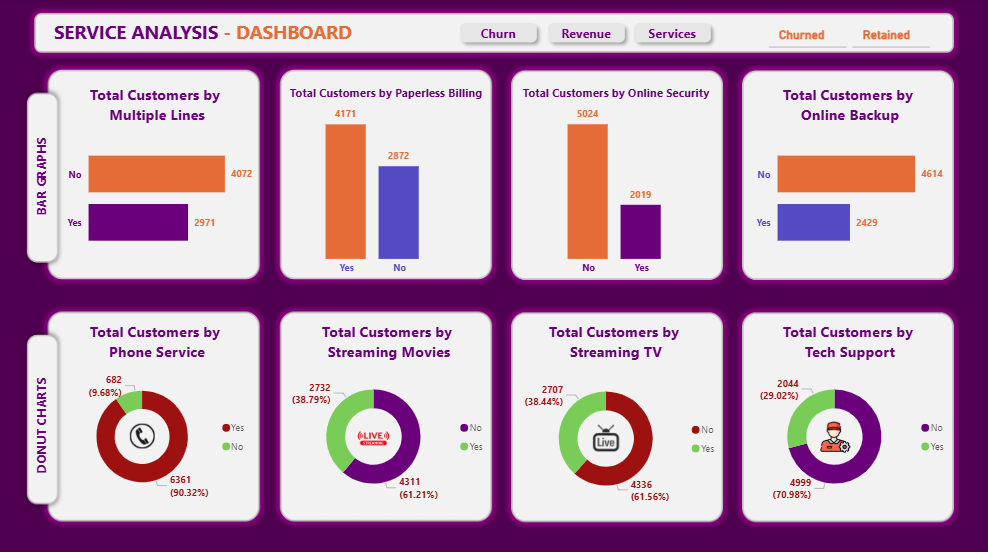

Layout of this report page (visuals, bound fields, positions):
{"tool":"powerbi","page":{"name":"Service","canvas":[1280,720],"ordinal":2},"visuals":[{"type":"textbox","box":[67,21.5,437,46.3],"z":0},{"type":"donutChart","fields":{"Y":["All_measure.Total Customers"],"Category":["Churn_Analysis.PhoneService"]},"box":[78.5,475.8,253.5,179.4],"z":0,"group":"g1"},{"type":"donutChart","fields":{"Y":["All_measure.Total Customers"],"Category":["Churn_Analysis.StreamingMovies"]},"box":[367.8,475.8,272.2,179.4],"z":0,"group":"g2"},{"type":"donutChart","fields":{"Y":["All_measure.Total Customers"],"Category":["Churn_Analysis.TechSupport"]},"box":[963,476.7,272.2,179.4],"z":0,"group":"g4"},{"type":"donutChart","fields":{"Y":["All_measure.Total Customers"],"Category":["Churn_Analysis.StreamingTV"]},"box":[668.6,478.4,270.5,179.4],"z":0,"group":"g3"},{"type":"advancedSlicerVisual","fields":{"Values":["Churn_Analysis.Exited"]},"box":[989.9,18.7,218.7,50.9],"z":1000},{"type":"group","id":"g1","title":"Group 3","box":[78.5,475.8,253.5,179.4],"z":2000},{"type":"clusteredBarChart","fields":{"Y":["All_measure.Total Customers"],"Category":["Churn_Analysis.MultipleLines"]},"box":[83.9,133.9,256.2,242.8],"z":3000},{"type":"textbox","box":[60.7,107.1,289.2,82.1],"z":4000},{"type":"clusteredBarChart","fields":{"Y":["All_measure.Total Customers"],"Category":["Churn_Analysis.OnlineBackup"]},"box":[972.9,133.9,253.5,242.8],"z":5000},{"type":"textbox","box":[955.1,107.1,289.2,82.1],"z":6000},{"type":"clusteredColumnChart","fields":{"Y":["All_measure.Total Customers"],"Category":["Churn_Analysis.OnlineSecurity"]},"box":[668.6,124.1,256.2,242.8],"z":7000},{"type":"textbox","box":[652.5,107.1,289.2,82.1],"z":8000},{"type":"clusteredColumnChart","fields":{"Y":["All_measure.Total Customers"],"Category":["Churn_Analysis.PaperlessBilling"]},"box":[356.2,124.1,256.2,242.8],"z":9000},{"type":"textbox","box":[356.2,107.1,289.2,82.1],"z":10000},{"type":"textbox","box":[60.7,413.3,289.2,82.1],"z":11000},{"type":"image","box":[165.1,543.6,42,43.7],"z":12000},{"type":"group","id":"g2","title":"Group 3","box":[367.8,475.8,272.2,179.4],"z":13000},{"type":"textbox","box":[359.7,413.3,289.2,82.1],"z":14000},{"type":"image","box":[455.2,540,58.9,56.2],"z":15000},{"type":"shape","box":[40.2,116.9,31.2,224],"z":16000},{"type":"shape","box":[40.2,438.3,31.2,224],"z":17000},{"type":"group","id":"g3","title":"Group 3","box":[668.6,478.4,270.5,179.4],"z":18000},{"type":"textbox","box":[652.5,413.3,289.2,82.1],"z":19000},{"type":"image","box":[756,542.7,56.2,49.1],"z":20000},{"type":"group","id":"g4","title":"Group 3","box":[963,476.7,272.2,179.4],"z":21000},{"type":"textbox","box":[955.1,413.3,289.2,82.1],"z":22000},{"type":"image","box":[1056,540.9,50,52.7],"z":23000},{"type":"shape","box":[700.7,23.2,116.9,42.8],"z":24000},{"type":"shape","box":[811.4,23.2,116.9,42.8],"z":25000},{"type":"shape","box":[587.3,23.2,116.9,42.8],"z":26000},{"type":"actionButton","box":[709.6,25.9,100,40.2],"z":27000},{"type":"actionButton","box":[595.4,25.9,100,40.2],"z":28000}]}

Visuals, with their boxes in screenshot pixels (x1, y1, x2, y2), scaled from the page's 1280x720 canvas onto the 988x552 screenshot:
textbox: 52:16:389:52
donutChart - All_measure.Total Customers x Churn_Analysis.PhoneService: 61:365:256:502
donutChart - All_measure.Total Customers x Churn_Analysis.StreamingMovies: 284:365:494:502
donutChart - All_measure.Total Customers x Churn_Analysis.TechSupport: 743:365:953:503
donutChart - All_measure.Total Customers x Churn_Analysis.StreamingTV: 516:367:725:504
advancedSlicerVisual - Churn_Analysis.Exited: 764:14:933:53
"Group 3" group: 61:365:256:502
clusteredBarChart - All_measure.Total Customers x Churn_Analysis.MultipleLines: 65:103:263:289
textbox: 47:82:270:145
clusteredBarChart - All_measure.Total Customers x Churn_Analysis.OnlineBackup: 751:103:947:289
textbox: 737:82:960:145
clusteredColumnChart - All_measure.Total Customers x Churn_Analysis.OnlineSecurity: 516:95:714:281
textbox: 504:82:727:145
clusteredColumnChart - All_measure.Total Customers x Churn_Analysis.PaperlessBilling: 275:95:473:281
textbox: 275:82:498:145
textbox: 47:317:270:380
image: 127:417:160:450
"Group 3" group: 284:365:494:502
textbox: 278:317:501:380
image: 351:414:397:457
shape: 31:90:55:261
shape: 31:336:55:508
"Group 3" group: 516:367:725:504
textbox: 504:317:727:380
image: 584:416:627:454
"Group 3" group: 743:365:953:503
textbox: 737:317:960:380
image: 815:415:854:455
shape: 541:18:631:51
shape: 626:18:717:51
shape: 453:18:544:51
actionButton: 548:20:625:51
actionButton: 460:20:537:51
